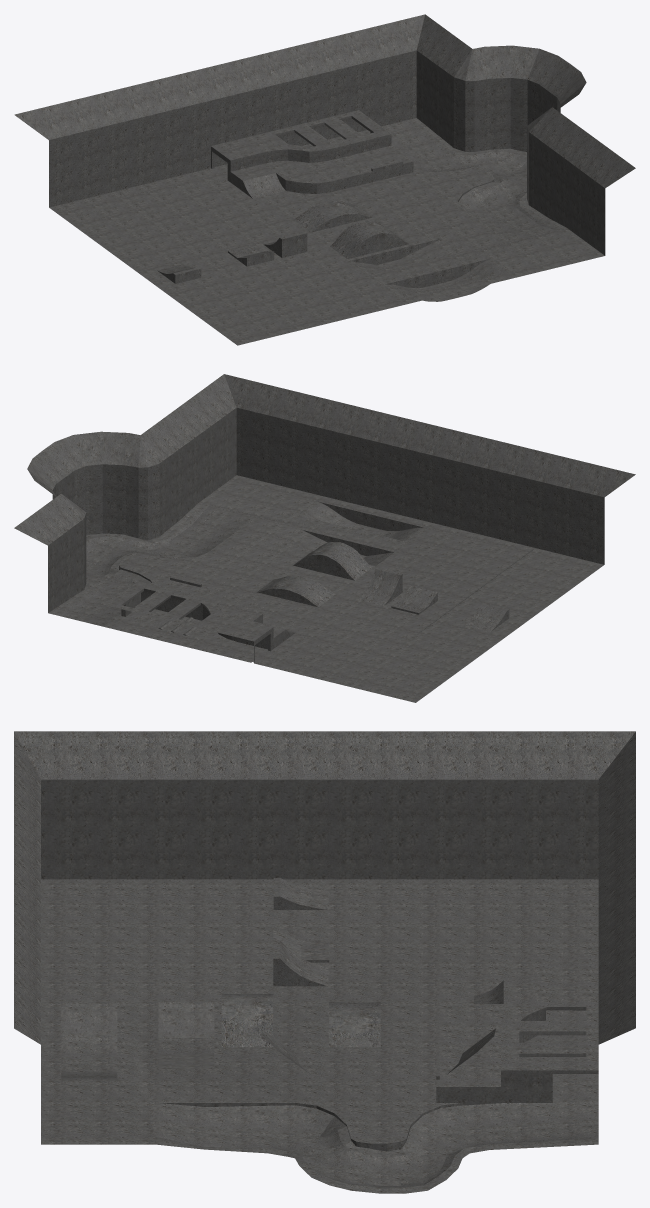
File: park.glb
The picture shows the model from 3 angles, top to bottom: view 1: azimuth 30°, elevation 25°; view 2: azimuth 150°, elevation 25°; view 3: azimuth 270°, elevation 25°; orthographic projection. The views are drawn at different scales.
Visible parts, largest first — view 1: Park; view 2: Park; view 3: Park.
Part boxes in pixels (x1,y1,x2,y2): Park: (14, 14, 635, 345); Park: (14, 374, 635, 702); Park: (14, 731, 635, 1193).
Size of the model in its own units: 57.13 by 11.83 by 44.34.
1 material, 1 textured.
